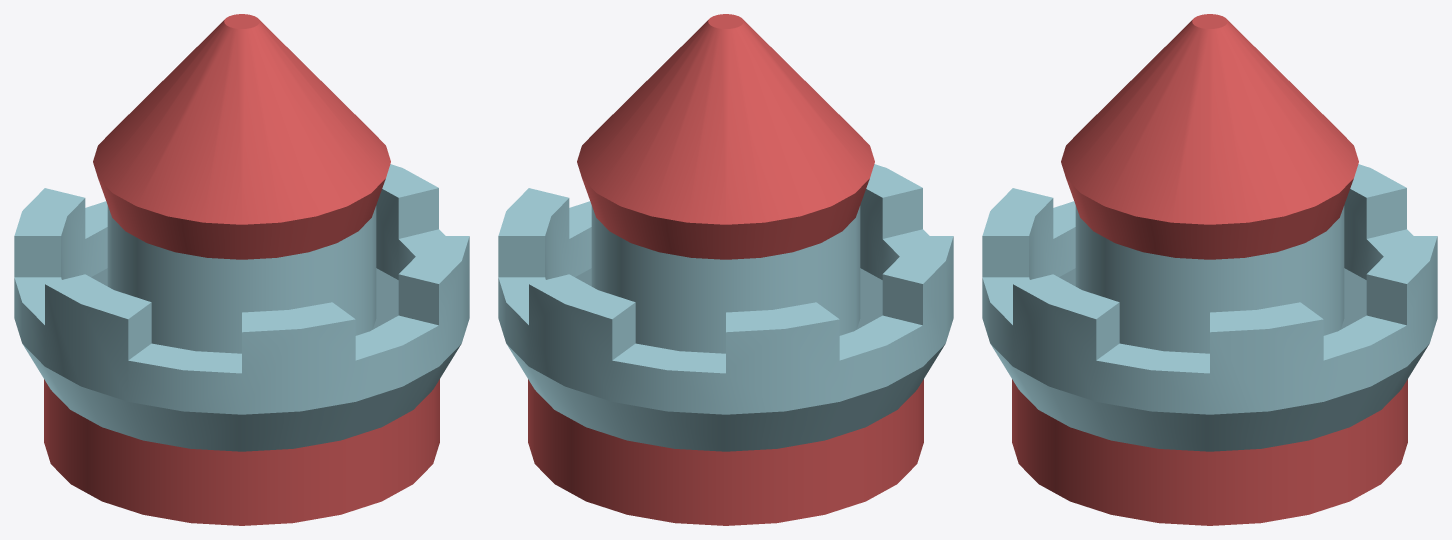
Rendered from towerround_roofb.fbx.
3 renders of one model, left to right at view 1: azimuth 30°, elevation 25°; view 2: azimuth 150°, elevation 25°; view 3: azimuth 270°, elevation 25°, orthographic.
Visible parts, largest first — view 1: towerRound_roofB; view 2: towerRound_roofB; view 3: towerRound_roofB.
Part boxes in pixels (x1,y1,x2,y2): towerRound_roofB: (14, 14, 469, 525); towerRound_roofB: (498, 14, 953, 525); towerRound_roofB: (982, 14, 1437, 525).
Bounding box in the file's own units: 10 × 10.2 × 10.
